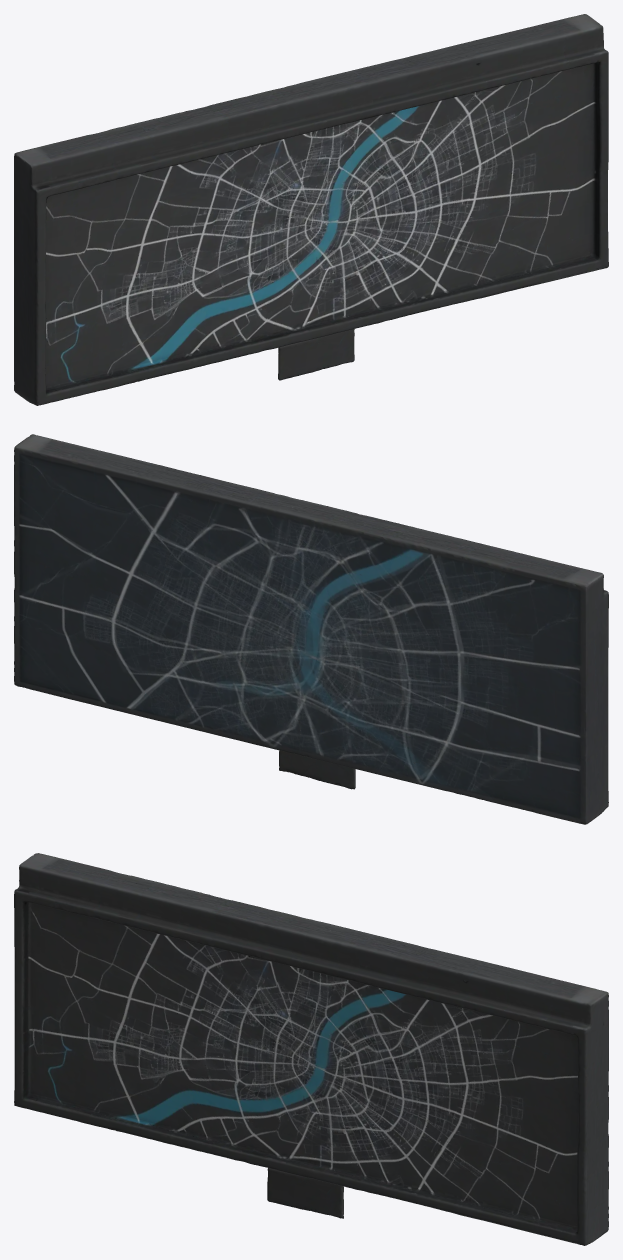
Rendered from Meshy_AI_Ahmedabad_Map_Install_0611072026_texture.glb.
The picture shows the model from 3 angles, top to bottom: view 1: azimuth 30°, elevation 25°; view 2: azimuth 150°, elevation 25°; view 3: azimuth 330°, elevation 25°; orthographic projection.
Size of the model in its own units: 2 by 0.9228 by 0.1465.
1 material, 1 textured.
